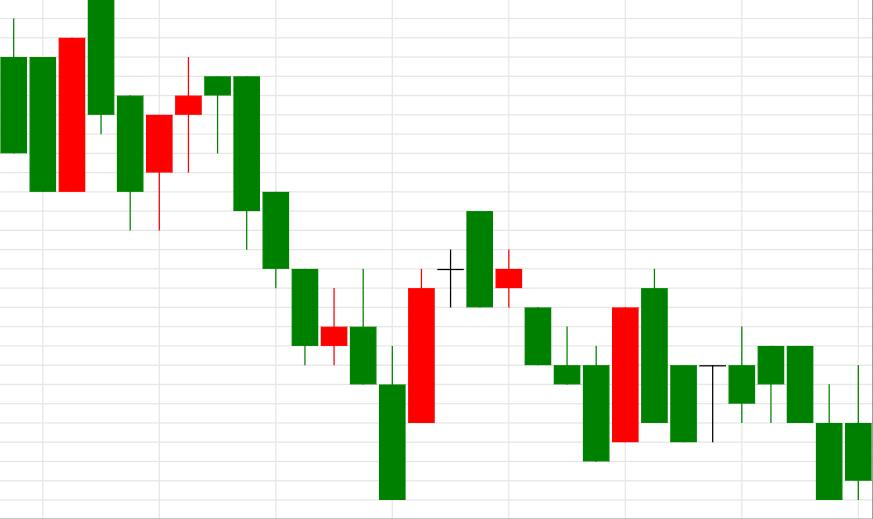three_black_crows_fall: (145, 58, 319, 365)
